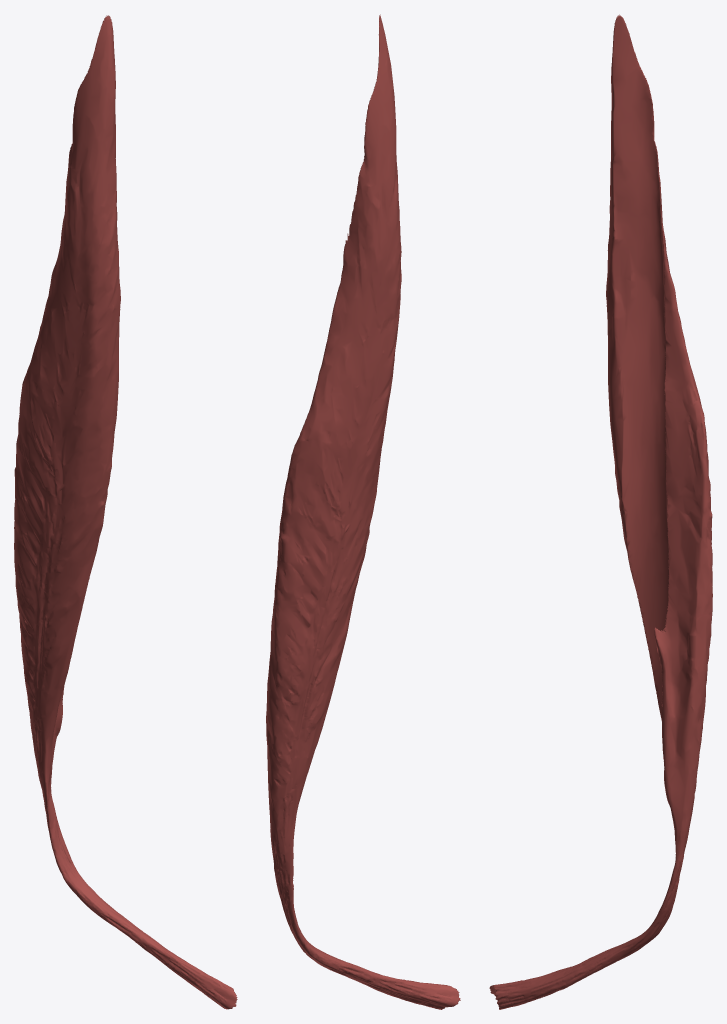
The model's file is FMA22554.glb.
3 renders of one model, left to right at view 1: azimuth 90°, elevation 25°; view 2: azimuth 150°, elevation 25°; view 3: azimuth 270°, elevation 25°, orthographic. The views are drawn at different scales.
Visible parts, largest first — view 1: FMA22554; view 2: FMA22554; view 3: FMA22554.
Boxes of the visible parts, left/top/right/bottom form: FMA22554: left=14, top=15, right=237, bottom=1009; FMA22554: left=266, top=14, right=460, bottom=1009; FMA22554: left=489, top=14, right=712, bottom=1009.
Size of the model in its own units: 0.0265 by 0.2609 by 0.0532.
